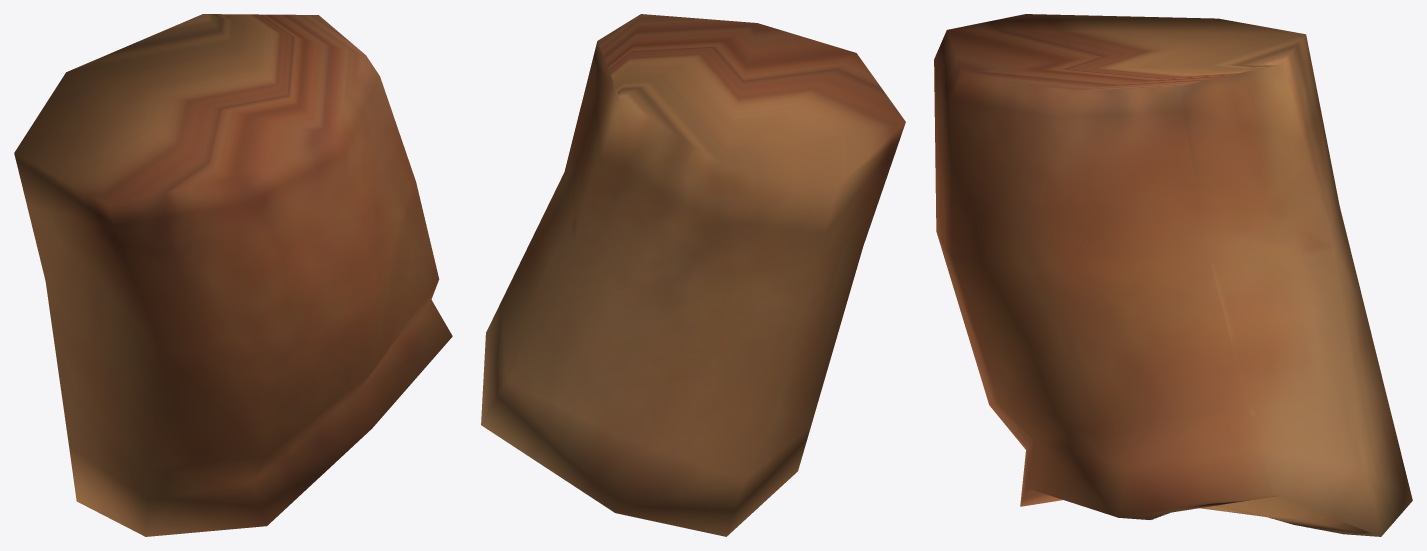
The model's file is index_01_l.dae.
3 views of the same model, side by side, from view 1: azimuth 30°, elevation 25°; view 2: azimuth 150°, elevation 25°; view 3: azimuth 270°, elevation 25° (orthographic). The views are drawn at different scales.
Parts seen in each view (by area): view 1: index_1_l; view 2: index_1_l; view 3: index_1_l.
Boxes of the visible parts, x1=… form: index_1_l: x1=14, y1=14, x2=452, y2=536; index_1_l: x1=481, y1=14, x2=905, y2=536; index_1_l: x1=934, y1=14, x2=1412, y2=536.
Bounding box in the file's own units: 0.0279 × 0.0258 × 0.0321.
Materials: 1 (1 with a texture image).
